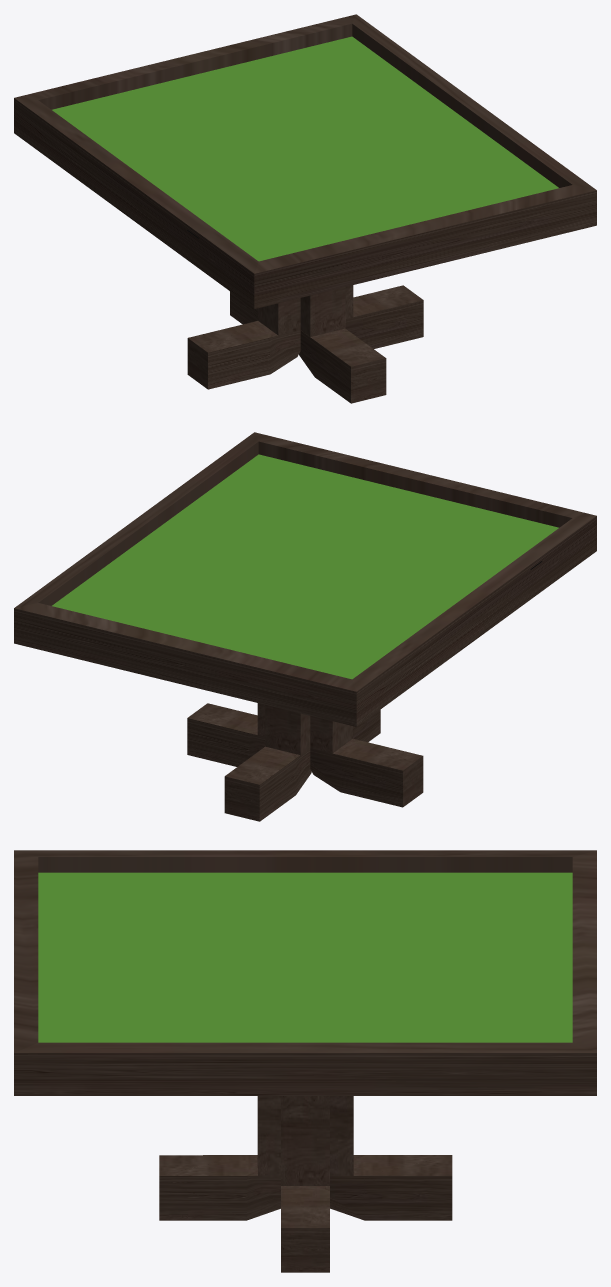
Rendered from mesaDADOS.glb.
3 renders of one model, top to bottom at view 1: azimuth 30°, elevation 25°; view 2: azimuth 150°, elevation 25°; view 3: azimuth 270°, elevation 25°, orthographic. The views are drawn at different scales.
Parts seen in each view (by area): view 1: Cubo.019; view 2: Cubo.019; view 3: Cubo.019.
Part boxes in pixels (box(x1,y1,x2,y2)): Cubo.019: box(14, 14, 596, 403); Cubo.019: box(14, 432, 596, 821); Cubo.019: box(14, 850, 596, 1272).
Bounding box in the file's own units: 19.51 × 11.58 × 23.66.
Materials: 3 (1 with a texture image).
